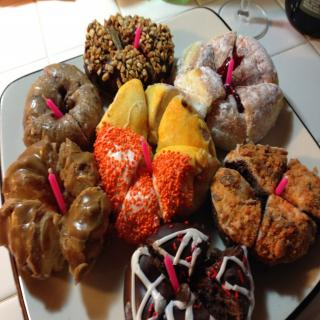Doughnut: (0, 13, 320, 320)
